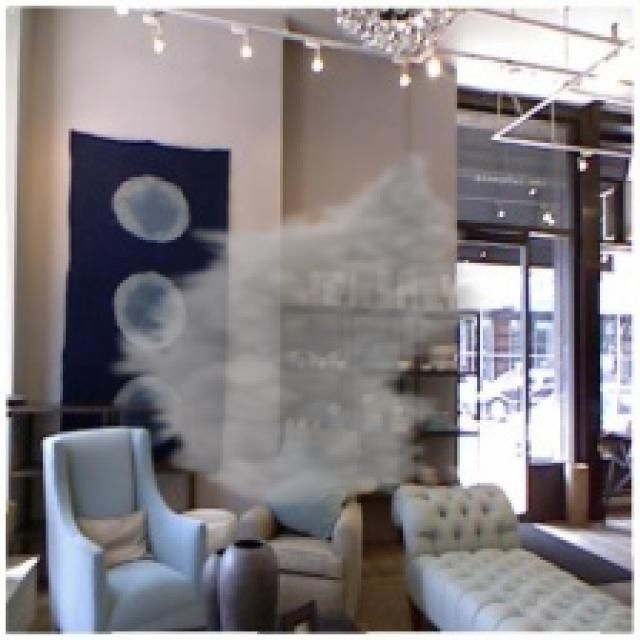smoke: (100, 146, 494, 511)
